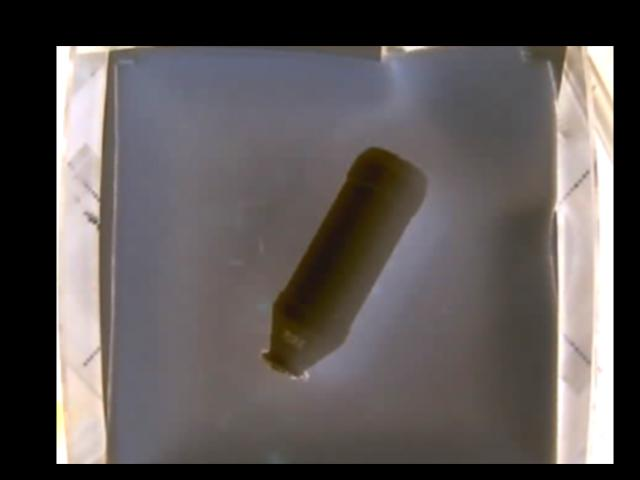Bottle: (264, 145, 426, 379)
